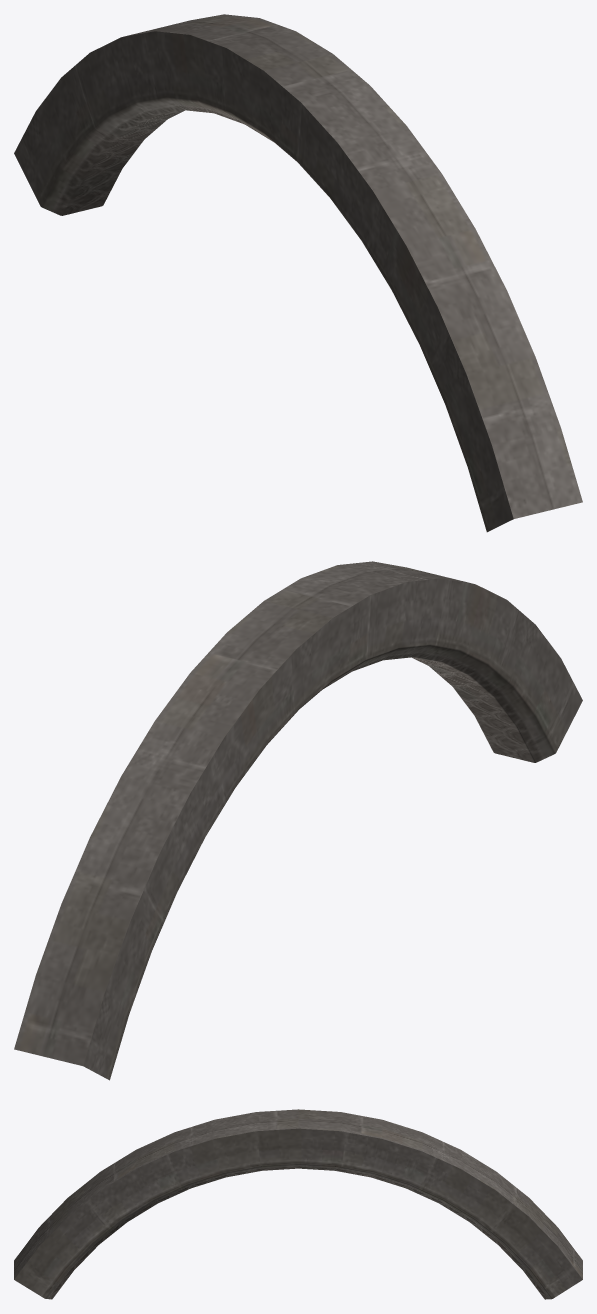
The model's file is SM_Ceiling_Arch_A.glb.
3 renders of one model, top to bottom at view 1: azimuth 30°, elevation 25°; view 2: azimuth 150°, elevation 25°; view 3: azimuth 270°, elevation 25°, orthographic. The views are drawn at different scales.
Parts seen in each view (by area): view 1: SM_Ceiling_Arch_A; view 2: SM_Ceiling_Arch_A; view 3: SM_Ceiling_Arch_A.
Part boxes in pixels (left/top/right/bottom): SM_Ceiling_Arch_A: left=14, top=14, right=582, bottom=532; SM_Ceiling_Arch_A: left=14, top=561, right=582, bottom=1080; SM_Ceiling_Arch_A: left=14, top=1109, right=582, bottom=1299.
Bounding box in the file's own units: 0.5 × 2.12 × 6.25.
1 material, 1 textured.
